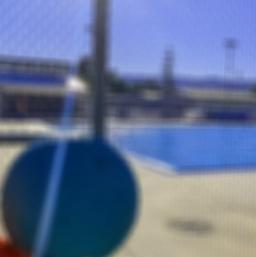algae: (0, 131, 144, 257)
